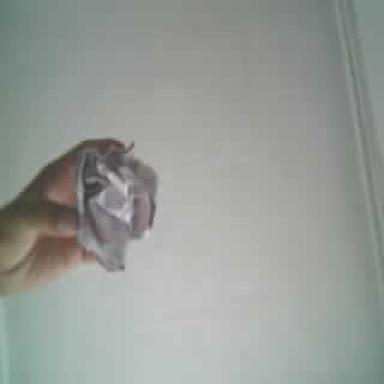paper: (77, 146, 156, 269)
